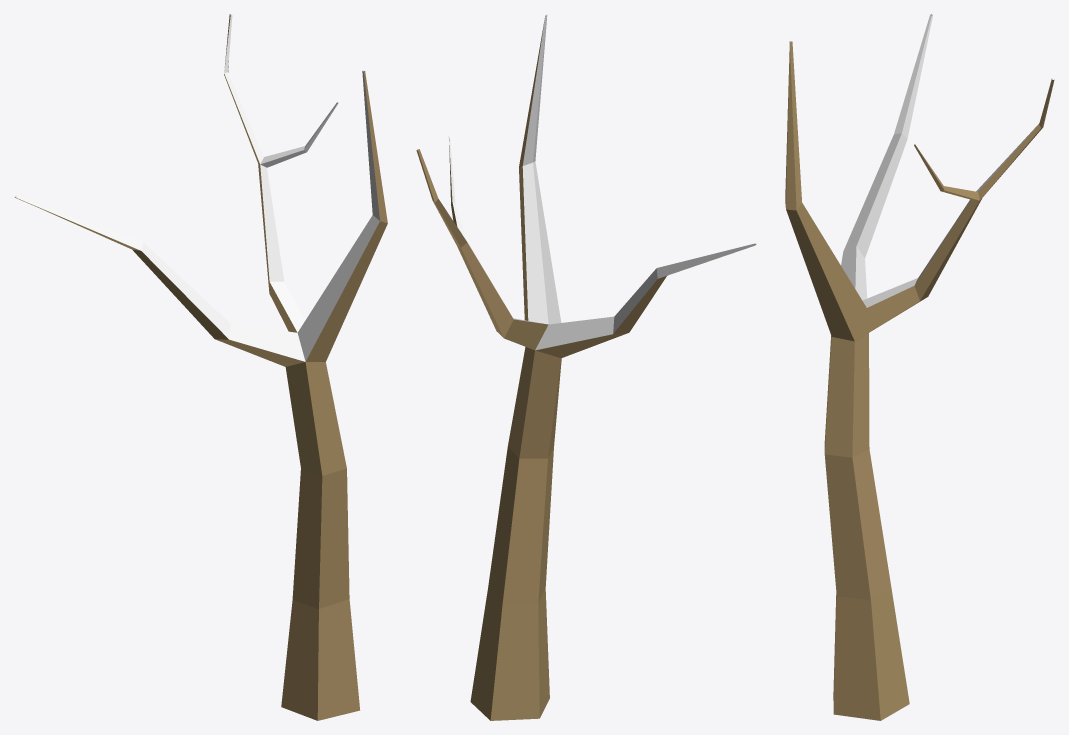
Rendered from Apple_Tree_NoLeaves_m_Snow_BT_03.fbx.
3 views of the same model, side by side, from view 1: azimuth 30°, elevation 25°; view 2: azimuth 150°, elevation 25°; view 3: azimuth 270°, elevation 25° (orthographic).
Parts seen in each view (by area): view 1: Apple_Tree_NoLeaves_m_Snow_BT_03; view 2: Apple_Tree_NoLeaves_m_Snow_BT_03; view 3: Apple_Tree_NoLeaves_m_Snow_BT_03.
Part boxes in pixels (left/top/right/bottom): Apple_Tree_NoLeaves_m_Snow_BT_03: left=14, top=14, right=387, bottom=720; Apple_Tree_NoLeaves_m_Snow_BT_03: left=416, top=14, right=756, bottom=720; Apple_Tree_NoLeaves_m_Snow_BT_03: left=785, top=14, right=1054, bottom=720.
Bounding box in the file's own units: 250 × 499 × 184.
